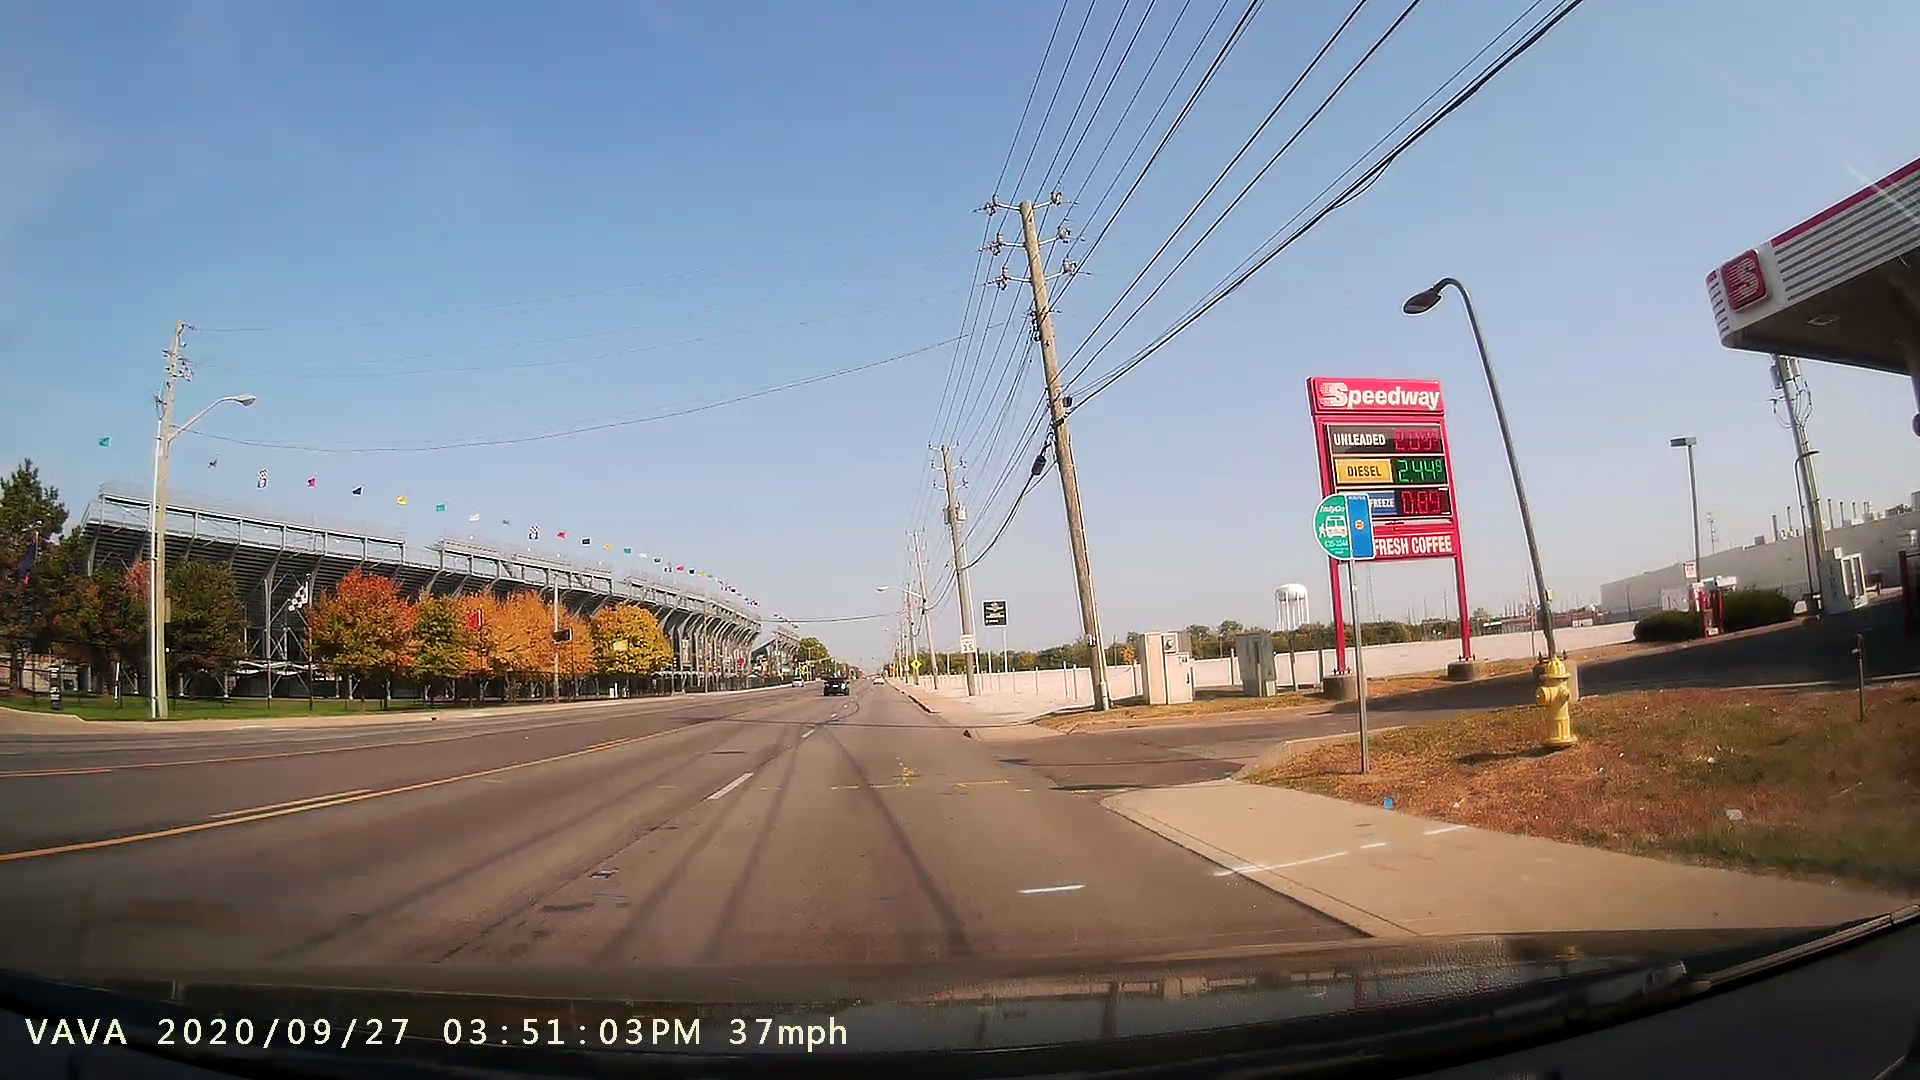fire_hydrant: (1524, 644, 1592, 753)
